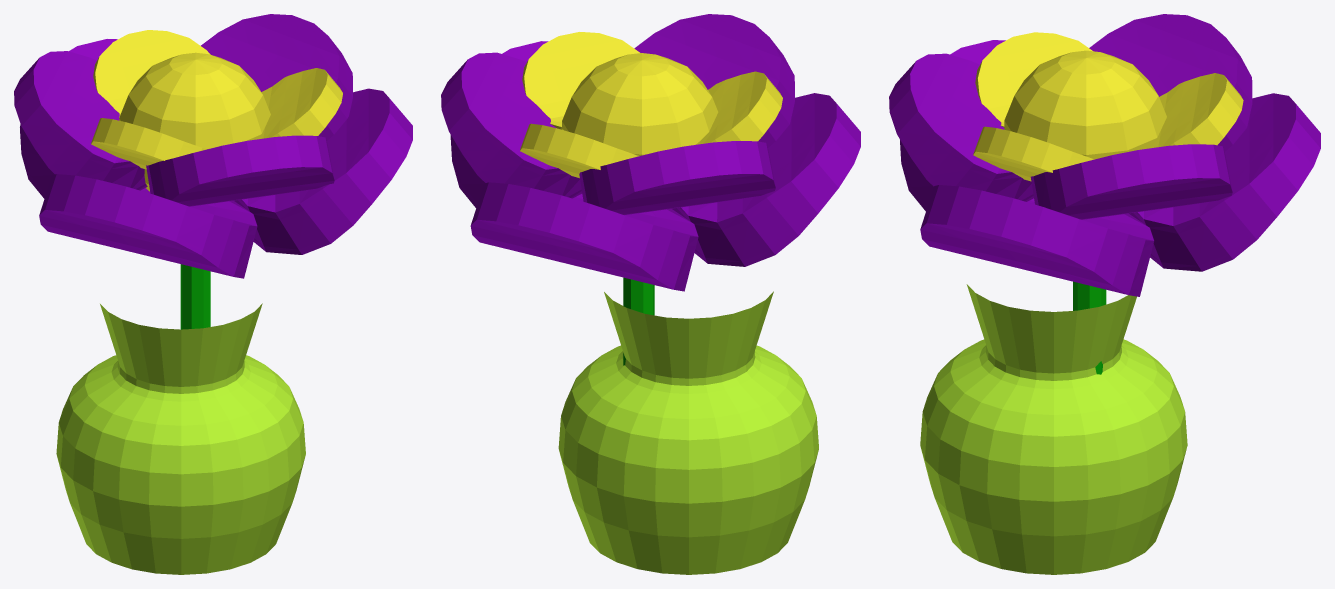
File: bakuchiol3.glb
3 renders of one model, left to right at view 1: azimuth 30°, elevation 25°; view 2: azimuth 150°, elevation 25°; view 3: azimuth 270°, elevation 25°, orthographic. The views are drawn at different scales.
Bounding box in the file's own units: 0.3971 × 0.4897 × 0.3887.
